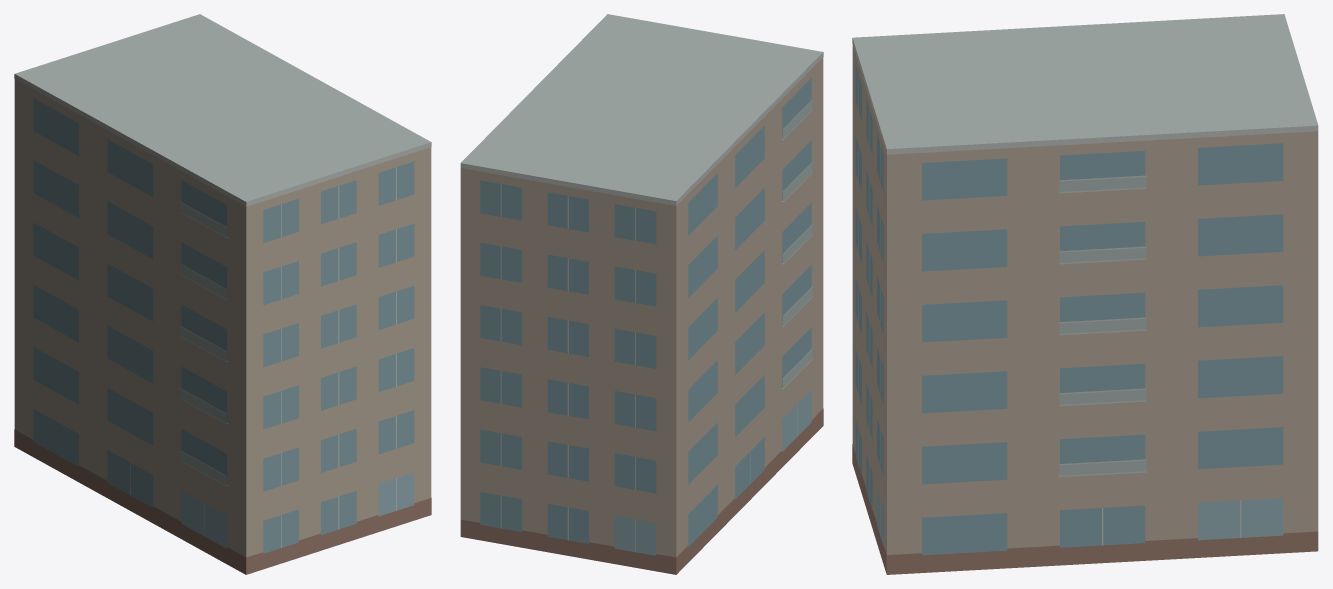
The model's file is survey-upis-33038389.glb.
The picture shows the model from 3 angles, left to right: view 1: azimuth 30°, elevation 25°; view 2: azimuth 150°, elevation 25°; view 3: azimuth 270°, elevation 25°; orthographic projection. The views are drawn at different scales.
Parts seen in each view (by area): view 1: survey-upis-33038389.tmp; view 2: survey-upis-33038389.tmp; view 3: survey-upis-33038389.tmp.
Part boxes in pixels (box(x1,y1,x2,y2)): survey-upis-33038389.tmp: box(14, 14, 431, 574); survey-upis-33038389.tmp: box(460, 14, 823, 574); survey-upis-33038389.tmp: box(852, 14, 1318, 574).
Size of the model in its own units: 12.61 by 18.5 by 18.36.
